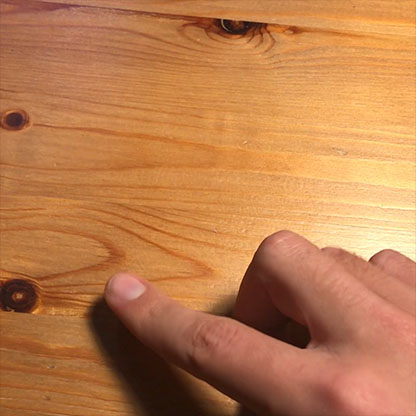fingertip: (97, 266, 154, 311)
